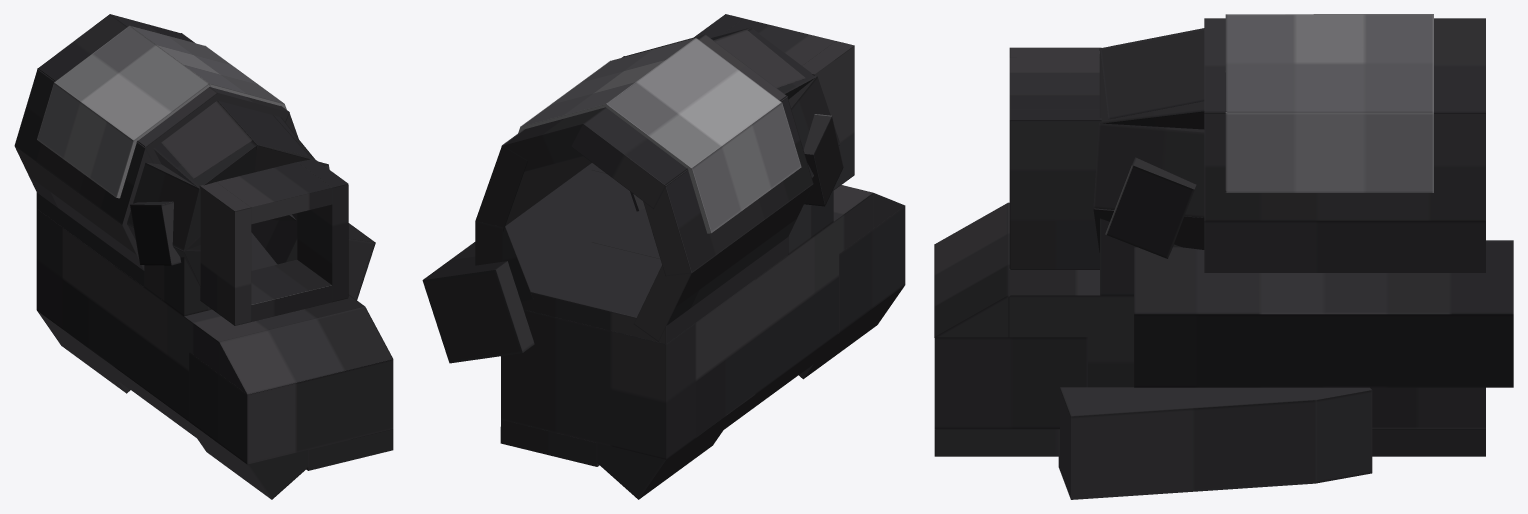
The model's file is srs.obj.
The picture shows the model from 3 angles, left to right: view 1: azimuth 30°, elevation 25°; view 2: azimuth 150°, elevation 25°; view 3: azimuth 270°, elevation 25°; orthographic projection. The views are drawn at different scales.
Visible parts, largest first — view 1: gun_39; view 2: gun_39, reticle_1; view 3: gun_39.
Part boxes in pixels (bbox=[...]): gun_39: bbox=[14, 14, 393, 499]; gun_39: bbox=[422, 14, 905, 499]; reticle_1: bbox=[592, 166, 660, 258]; gun_39: bbox=[934, 14, 1513, 499].
Bounding box in the file's own units: 0.3494 × 0.4754 × 0.5909.
